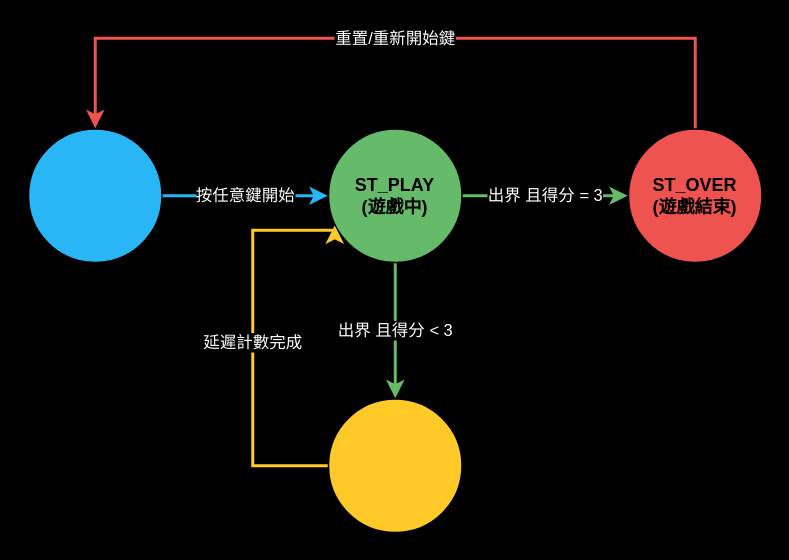
The diagram is 789 pixels wide and 560 high, and some of its shapes have lost their labels. Here are the shapes that lost their labels. From the top down, the box of each, then its label:
(26, 126, 164, 264): ST_IDLE (等待開始)
(326, 396, 464, 534): ST_SCORE (得分重置)
